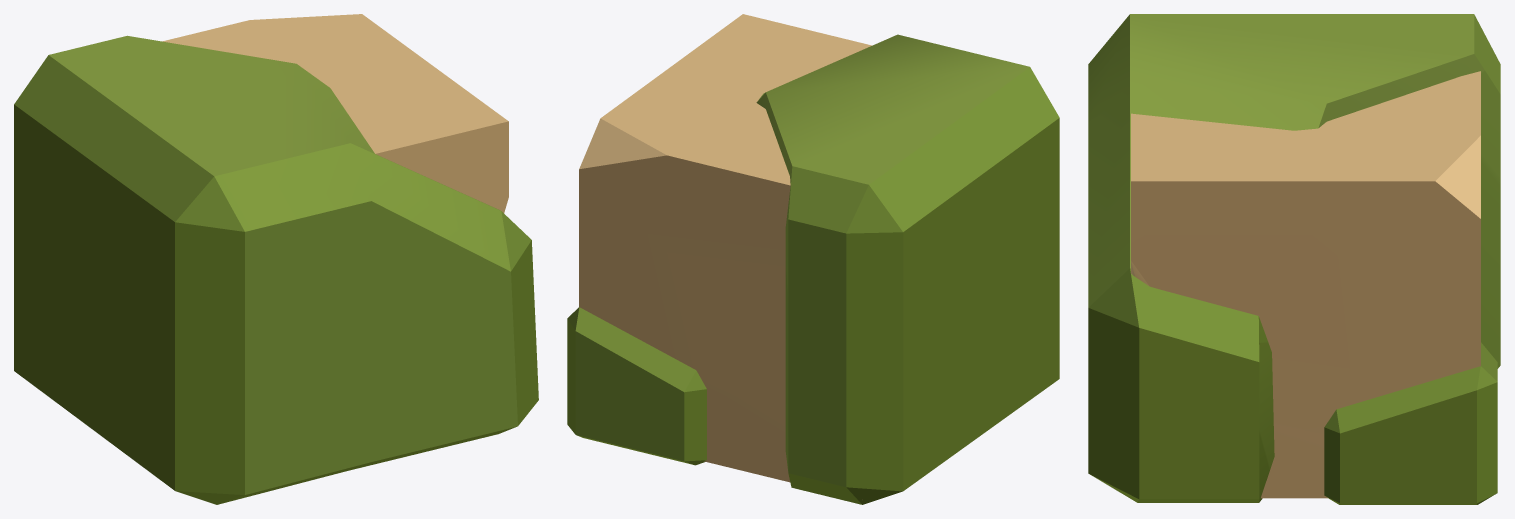
The model's file is ST_Env_Block_Grass_01.fbx.
The picture shows the model from 3 angles, left to right: view 1: azimuth 30°, elevation 25°; view 2: azimuth 150°, elevation 25°; view 3: azimuth 270°, elevation 25°; orthographic projection. The views are drawn at different scales.
Parts seen in each view (by area): view 1: ST_Env_Block_Grass_01; view 2: ST_Env_Block_Grass_01; view 3: ST_Env_Block_Grass_01.
Boxes of the visible parts, bbox=[...] form: ST_Env_Block_Grass_01: bbox=[14, 14, 538, 504]; ST_Env_Block_Grass_01: bbox=[567, 14, 1059, 504]; ST_Env_Block_Grass_01: bbox=[1088, 14, 1500, 504].
Size of the model in its own units: 6.23 by 5.44 by 5.89.
